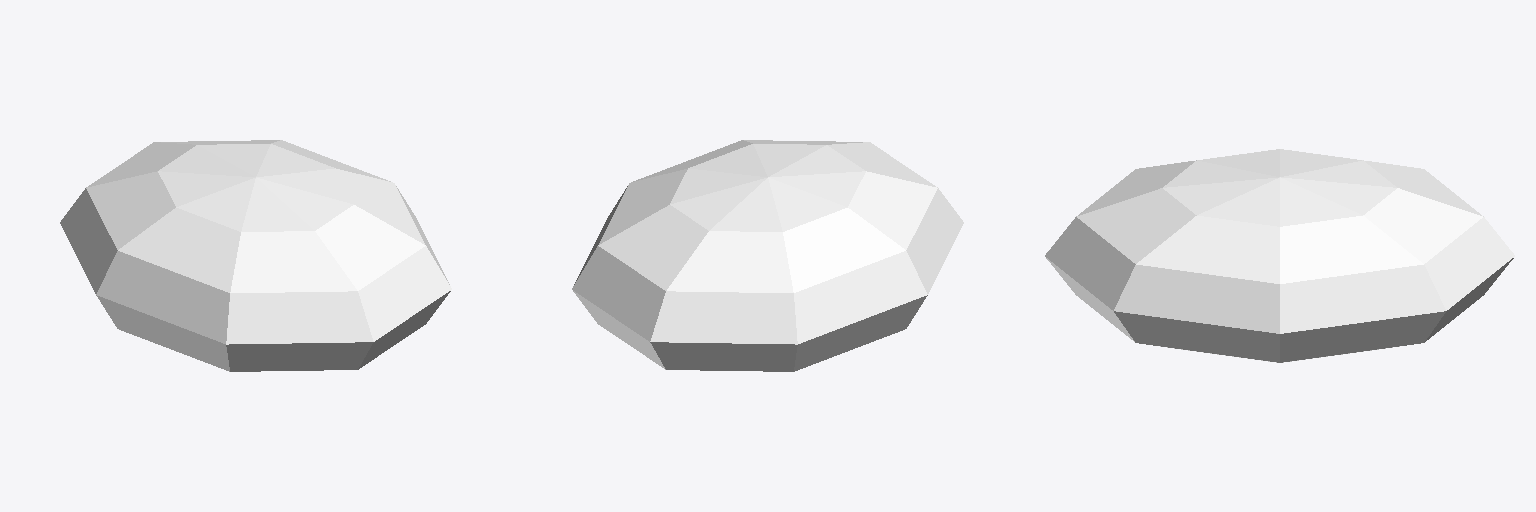
The model's file is gem_def.obj.
3 renders of one model, left to right at view 1: azimuth 30°, elevation 25°; view 2: azimuth 150°, elevation 25°; view 3: azimuth 270°, elevation 25°, orthographic.
Parts seen in each view (by area): view 1: pSphere3; view 2: pSphere3; view 3: pSphere3.
Boxes of the visible parts, x1,y1,x2,y2 form: pSphere3: [60, 140, 451, 371]; pSphere3: [572, 140, 963, 371]; pSphere3: [1045, 149, 1514, 362].
Bounding box in the file's own units: 1.39 × 0.6554 × 1.78.